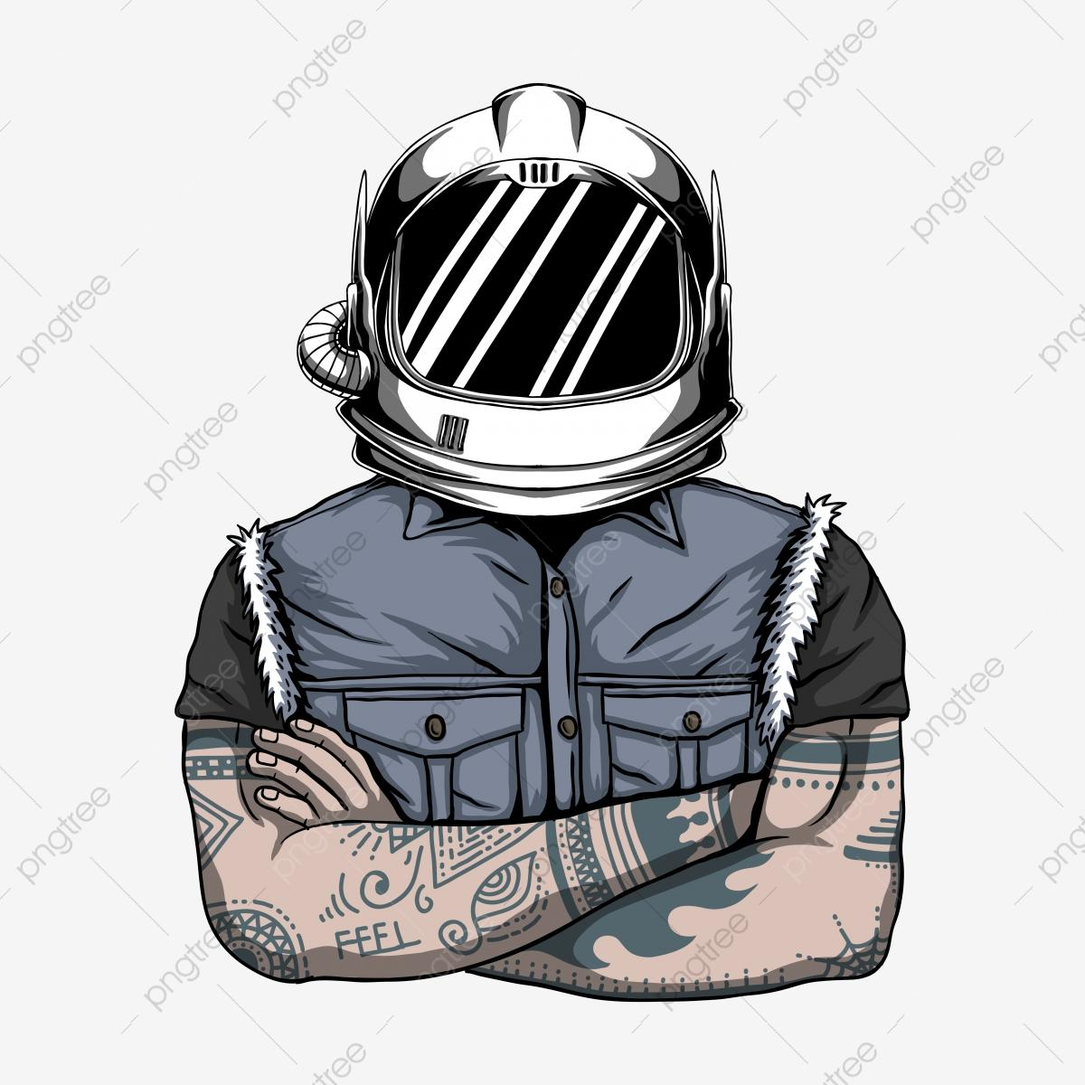helmet: (276, 70, 826, 526)
